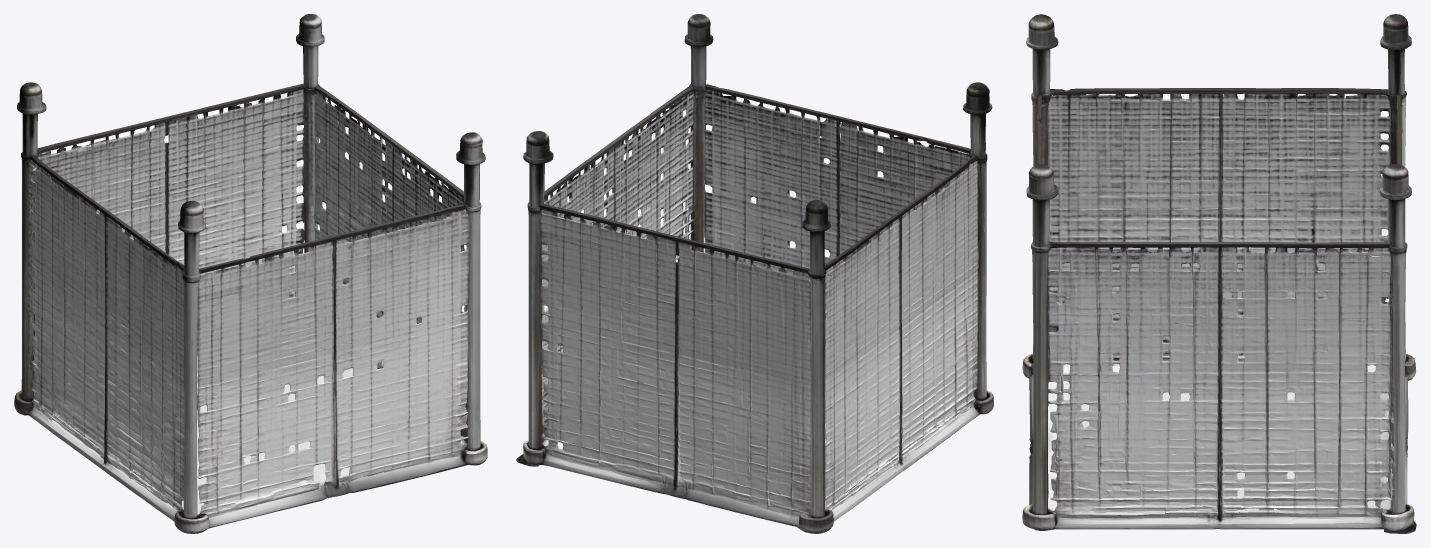
Rendered from chainlink_fence_300073_20251230_114811_20251230_115935.glb.
The picture shows the model from 3 angles, left to right: view 1: azimuth 30°, elevation 25°; view 2: azimuth 150°, elevation 25°; view 3: azimuth 270°, elevation 25°; orthographic projection. The views are drawn at different scales.
Visible parts, largest first — view 1: world; view 2: world; view 3: world.
Part boxes in pixels (box(x1,y1,x2,y2)): world: box(14, 14, 487, 533); world: box(516, 14, 993, 533); world: box(1022, 14, 1416, 533).
Size of the model in its own units: 0.9893 by 0.9996 by 0.9903.
Materials: 1 (1 with a texture image).
